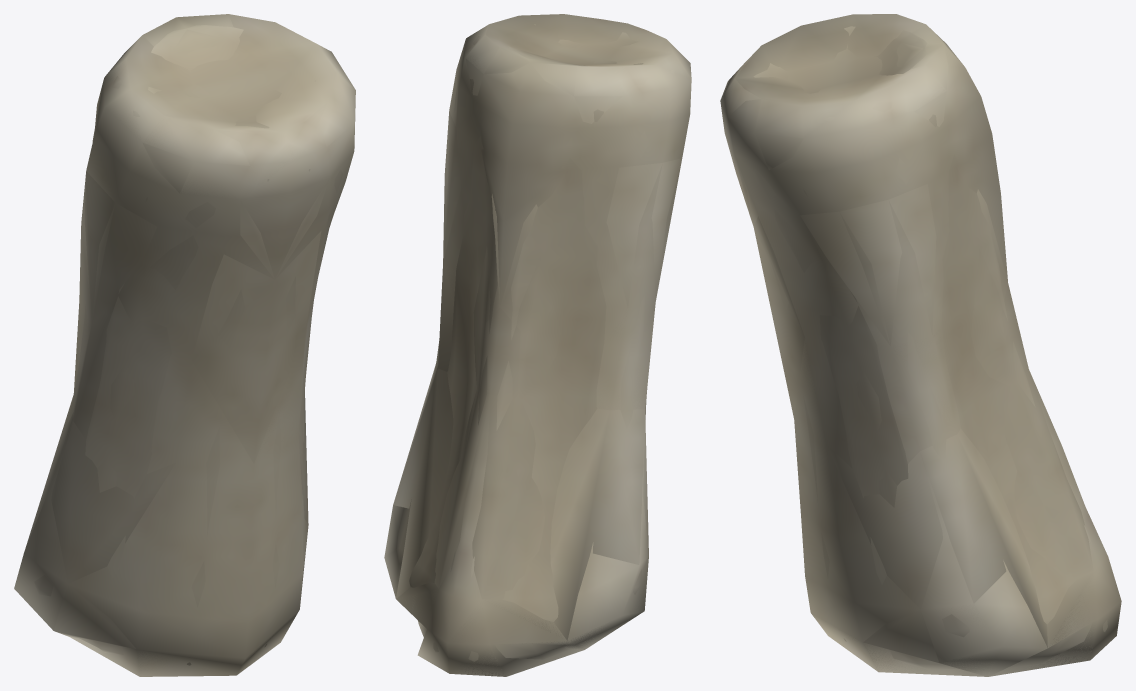
Rendered from vertebrae caudales 12.fbx.
3 views of the same model, side by side, from view 1: azimuth 30°, elevation 25°; view 2: azimuth 150°, elevation 25°; view 3: azimuth 270°, elevation 25° (orthographic). The views are drawn at different scales.
Visible parts, largest first — view 1: vertebrae caudales 12, vertebrae caudales 12 low, vertebrae caudales 12 high; view 2: vertebrae caudales 12, vertebrae caudales 12 low, vertebrae caudales 12 high; view 3: vertebrae caudales 12, vertebrae caudales 12 low, vertebrae caudales 12 high.
Boxes of the visible parts, box(x1,y1,x2,y2) form: vertebrae caudales 12: box(14, 14, 355, 676); vertebrae caudales 12 low: box(18, 14, 355, 676); vertebrae caudales 12 high: box(34, 25, 342, 665); vertebrae caudales 12: box(384, 15, 691, 676); vertebrae caudales 12 low: box(393, 14, 690, 676); vertebrae caudales 12 high: box(409, 24, 674, 661); vertebrae caudales 12: box(720, 24, 1121, 676); vertebrae caudales 12 low: box(721, 14, 1120, 676); vertebrae caudales 12 high: box(726, 26, 1107, 669).
Size of the model in its own units: 0.6526 by 1.41 by 0.8591.
1 material, 1 textured.
